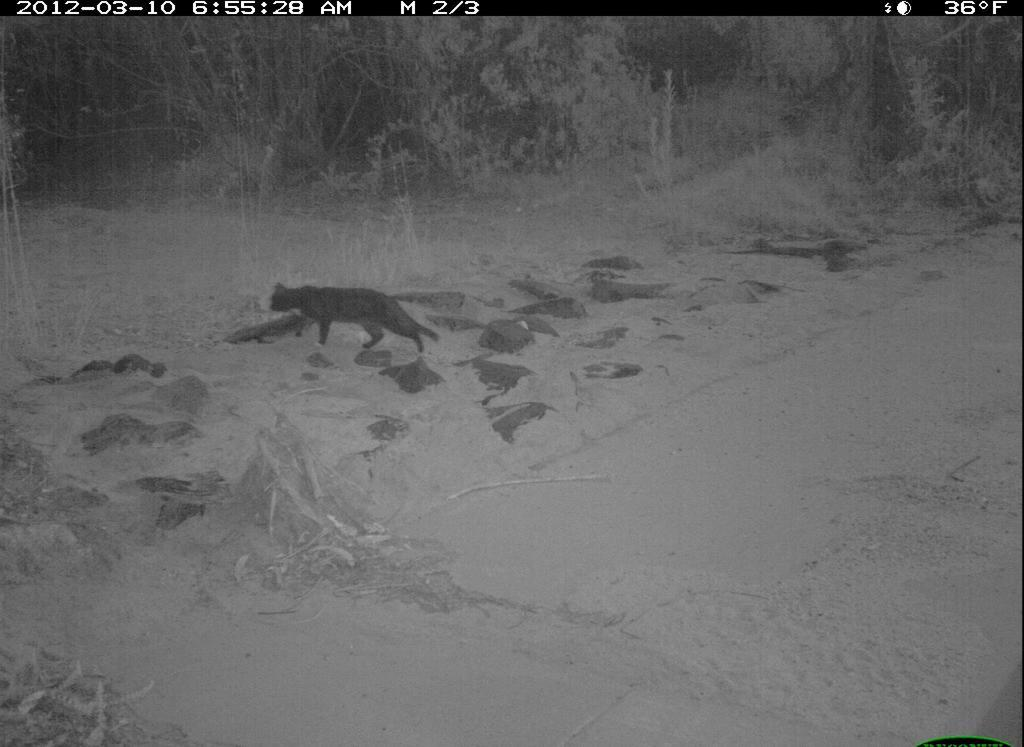cat: (259, 276, 440, 360)
